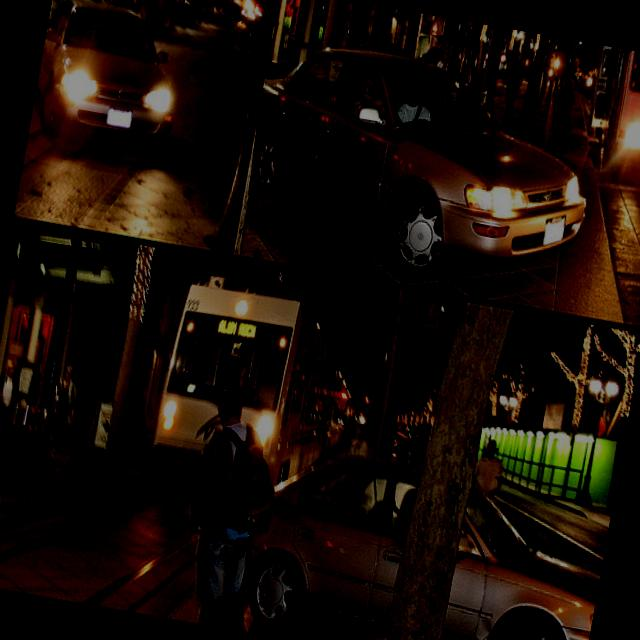Vehicle: (239, 32, 607, 276), (231, 435, 614, 640), (148, 272, 363, 508), (25, 0, 193, 171), (574, 44, 640, 188), (0, 302, 57, 413)
